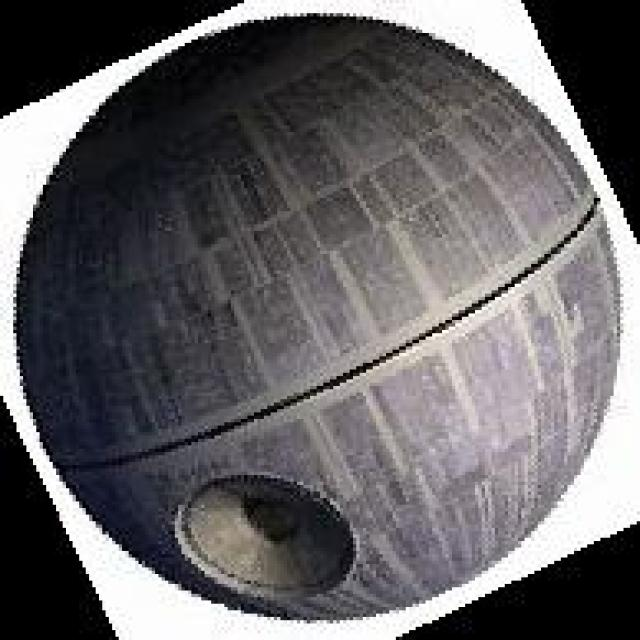Death Star: (22, 14, 616, 623)
